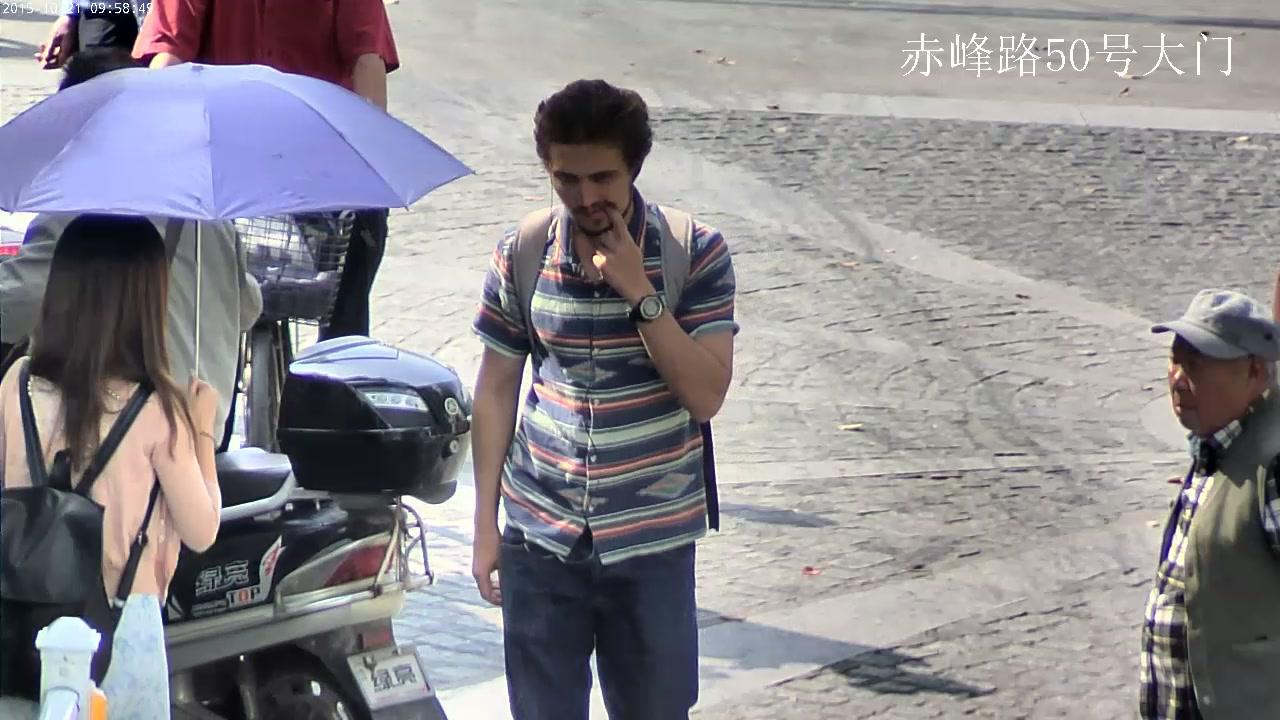face: (1168, 329, 1245, 431), (549, 143, 629, 234)
